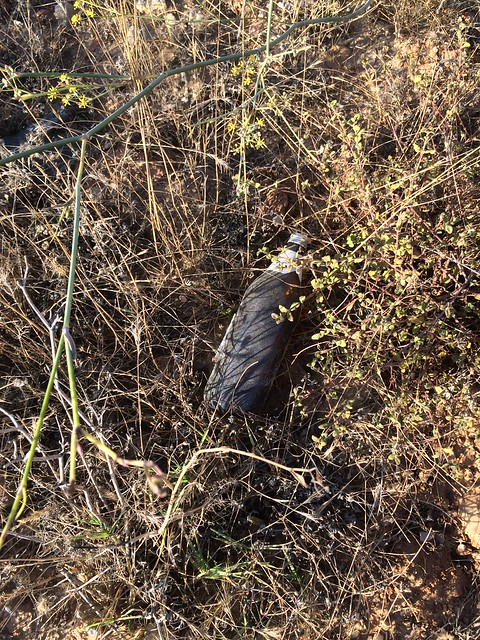bottle: (202, 218, 315, 419)
